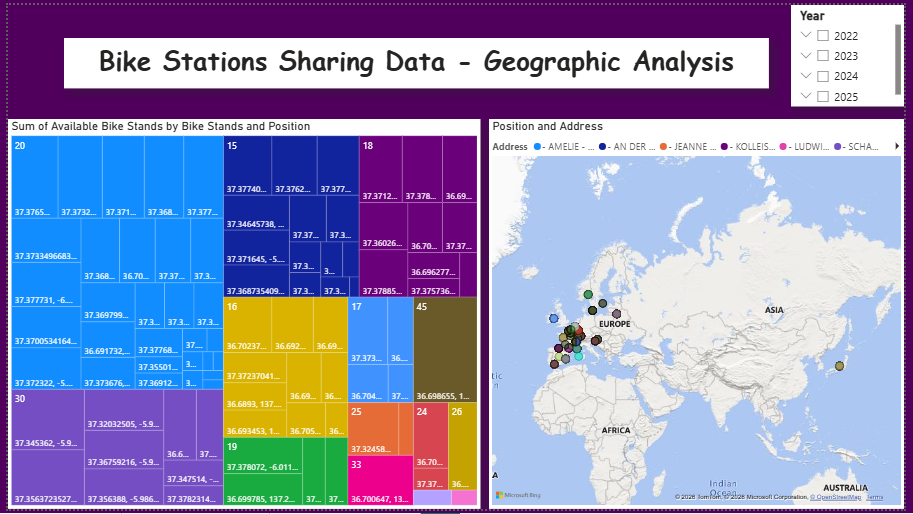

The page's visual inventory and layout, read from the dashboard file:
{"tool":"powerbi","page":{"name":"Geographic Analysis","canvas":[1280,720],"ordinal":2},"visuals":[{"type":"treemap","fields":{"Values":["Sum(Feuil1.Available Bike Stands)"],"Details":["Feuil1.Position"],"Group":["Feuil1.Bike Stands"]},"box":[0,163.3,675,556.7],"z":0},{"type":"map","fields":{"Series":["Feuil1.Address"],"Category":["Feuil1.Position"]},"box":[686.7,163.3,593.3,556.7],"z":1000},{"type":"slicer","fields":{"Values":["Feuil1.Last Update.Variation.Date Hierarchy.Year","Feuil1.Last Update.Variation.Date Hierarchy.Quarter","Feuil1.Last Update.Variation.Date Hierarchy.Month","Feuil1.Last Update.Variation.Date Hierarchy.Day"]},"box":[1118.3,0,161.7,145],"z":2000},{"type":"textbox","box":[80,46.7,1006.7,71.7],"z":3000}]}

Visuals, with their boxes in screenshot pixels (x1, y1, x2, y2), scaled from the page's 1280x720 canvas onto the 913x514 screenshot:
treemap - Sum(Feuil1.Available Bike Stands) x Feuil1.Position: <box>0,117,481,513</box>
map - Feuil1.Address x Feuil1.Position: <box>490,117,912,513</box>
slicer - Feuil1.Last Update.Variation.Date Hierarchy.Year x Feuil1.Last Update.Variation.Date Hierarchy.Quarter: <box>798,0,912,104</box>
textbox: <box>57,33,775,85</box>
